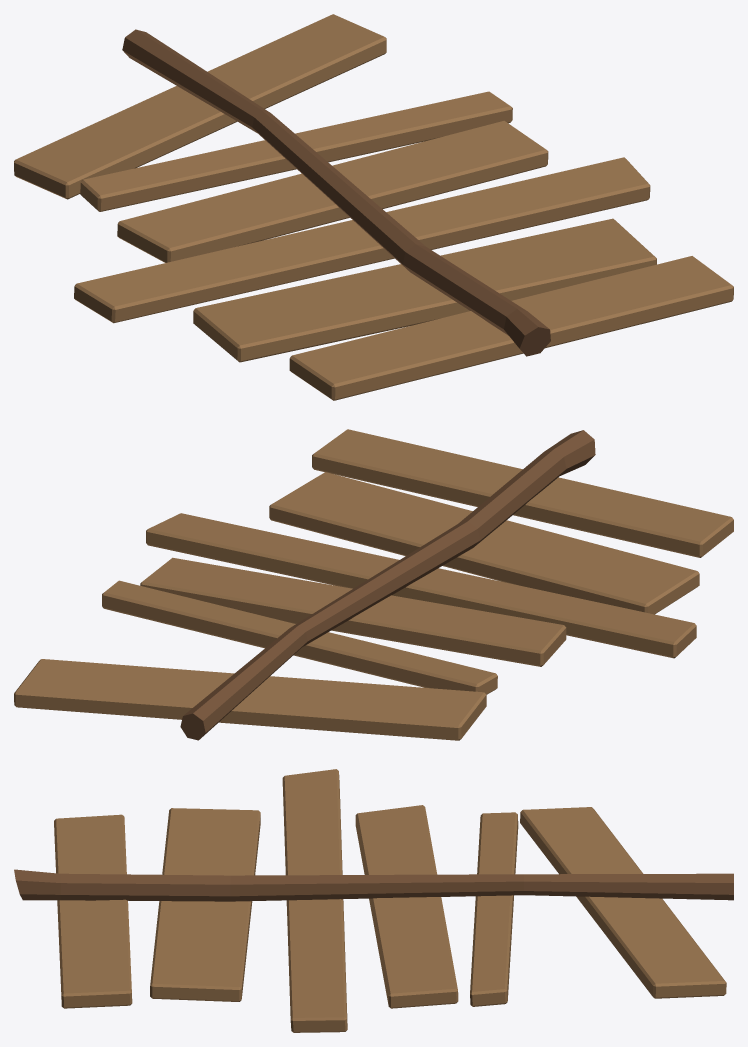
Rendered from Panel_16.fbx.
3 views of the same model, one above another, from view 1: azimuth 30°, elevation 25°; view 2: azimuth 150°, elevation 25°; view 3: azimuth 270°, elevation 25° (orthographic). The views are drawn at different scales.
Visible parts, largest first — view 1: Poteau 1*6 LOW.002; view 2: Poteau 1*6 LOW.002; view 3: Poteau 1*6 LOW.002.
Boxes of the visible parts, x1,y1,x2,y2 form: Poteau 1*6 LOW.002: (14, 14, 733, 400); Poteau 1*6 LOW.002: (14, 429, 733, 740); Poteau 1*6 LOW.002: (14, 769, 733, 1032).
Bounding box in the file's own units: 127 × 12.14 × 161.
